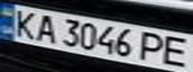0: (75, 20, 100, 52)
3: (57, 16, 81, 48)
4: (93, 24, 118, 55)
6: (115, 26, 139, 60)
A: (30, 11, 60, 44)
E: (157, 34, 193, 69)
K: (9, 7, 42, 39)
P: (136, 29, 169, 63)
